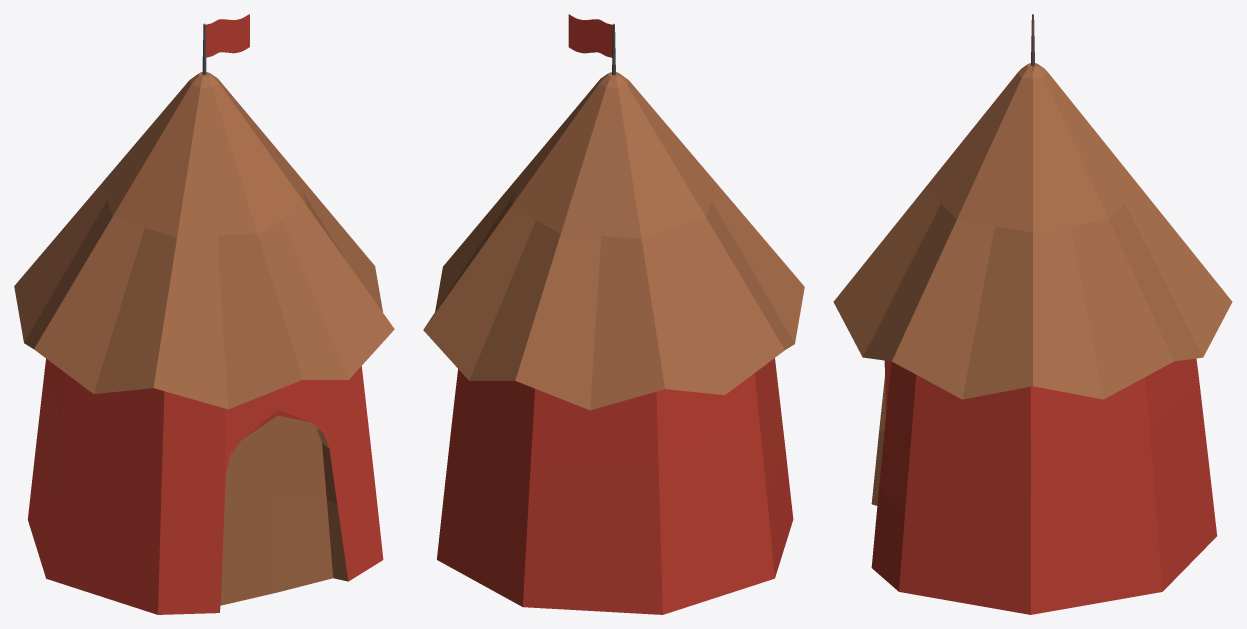
The model's file is tent.fbx.
3 renders of one model, left to right at view 1: azimuth 30°, elevation 25°; view 2: azimuth 150°, elevation 25°; view 3: azimuth 270°, elevation 25°, orthographic.
Visible parts, largest first — view 1: TENT; view 2: TENT; view 3: TENT.
Part boxes in pixels (<box>): TENT: <box>14,14,394,614</box>; TENT: <box>423,14,804,614</box>; TENT: <box>833,14,1232,614</box>.
Bounding box in the file's own units: 2.49 × 3.59 × 2.49.
